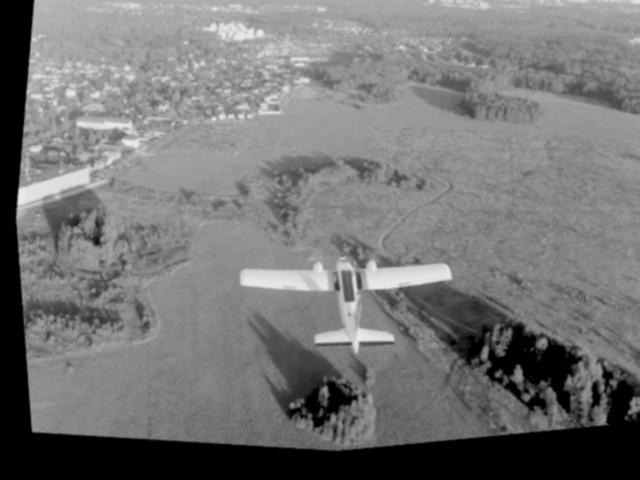hedef: (215, 217, 471, 393)
